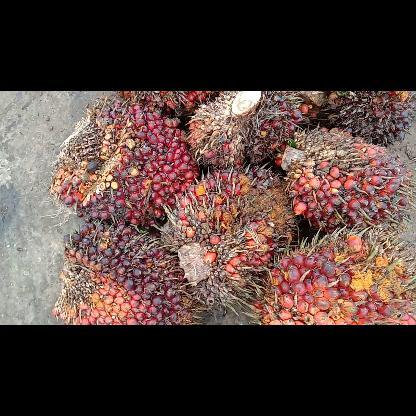TBS masak: (42, 98, 198, 226), (158, 170, 304, 302), (254, 230, 414, 324), (278, 121, 410, 231), (52, 226, 198, 324), (187, 94, 311, 166), (322, 92, 412, 146), (118, 91, 219, 117)
